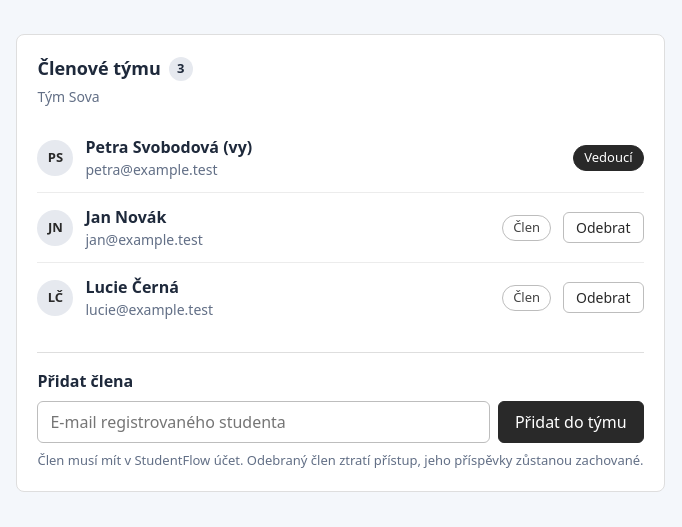
Test: ProjectMembers removal › shows 409 LEADER_CANNOT_BE_REMOVED and reloads, because the team changed meanwhile
Step 1. Click the button "Odebrat" in the row of "JN" → (603, 228), box [563, 212, 644, 243]
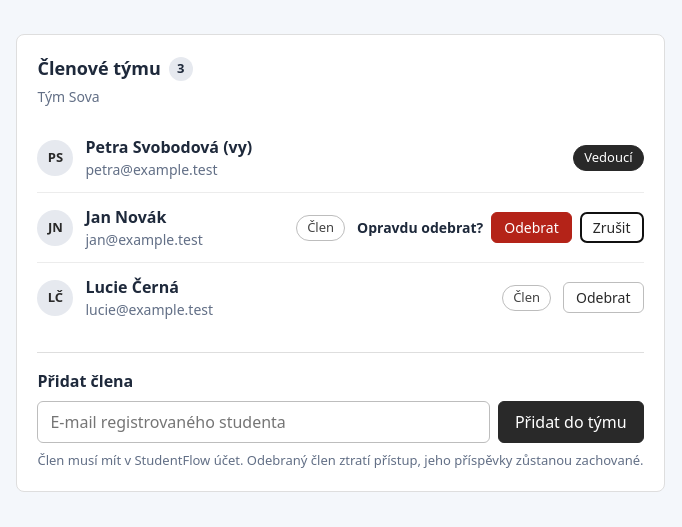
Step 2. Click the button "Odebrat" next to "Opravdu odebrat?" → (531, 228), box [491, 212, 572, 243]
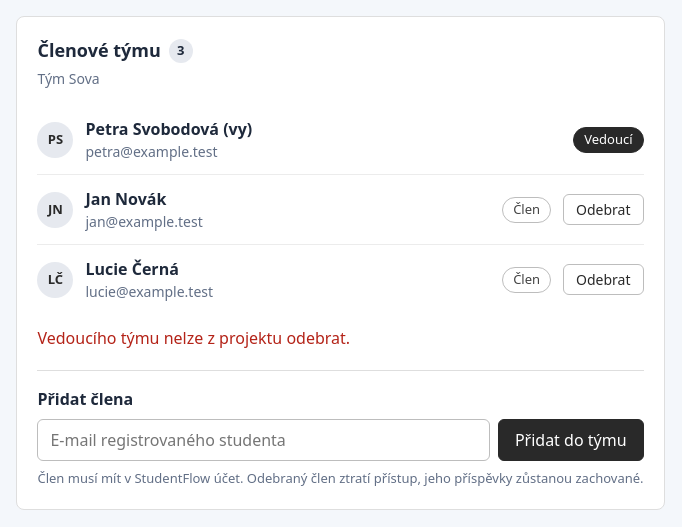
expect the message reads "Vedoucího týmu nelze z projektu odebrat.": met, box [38, 327, 350, 349]
